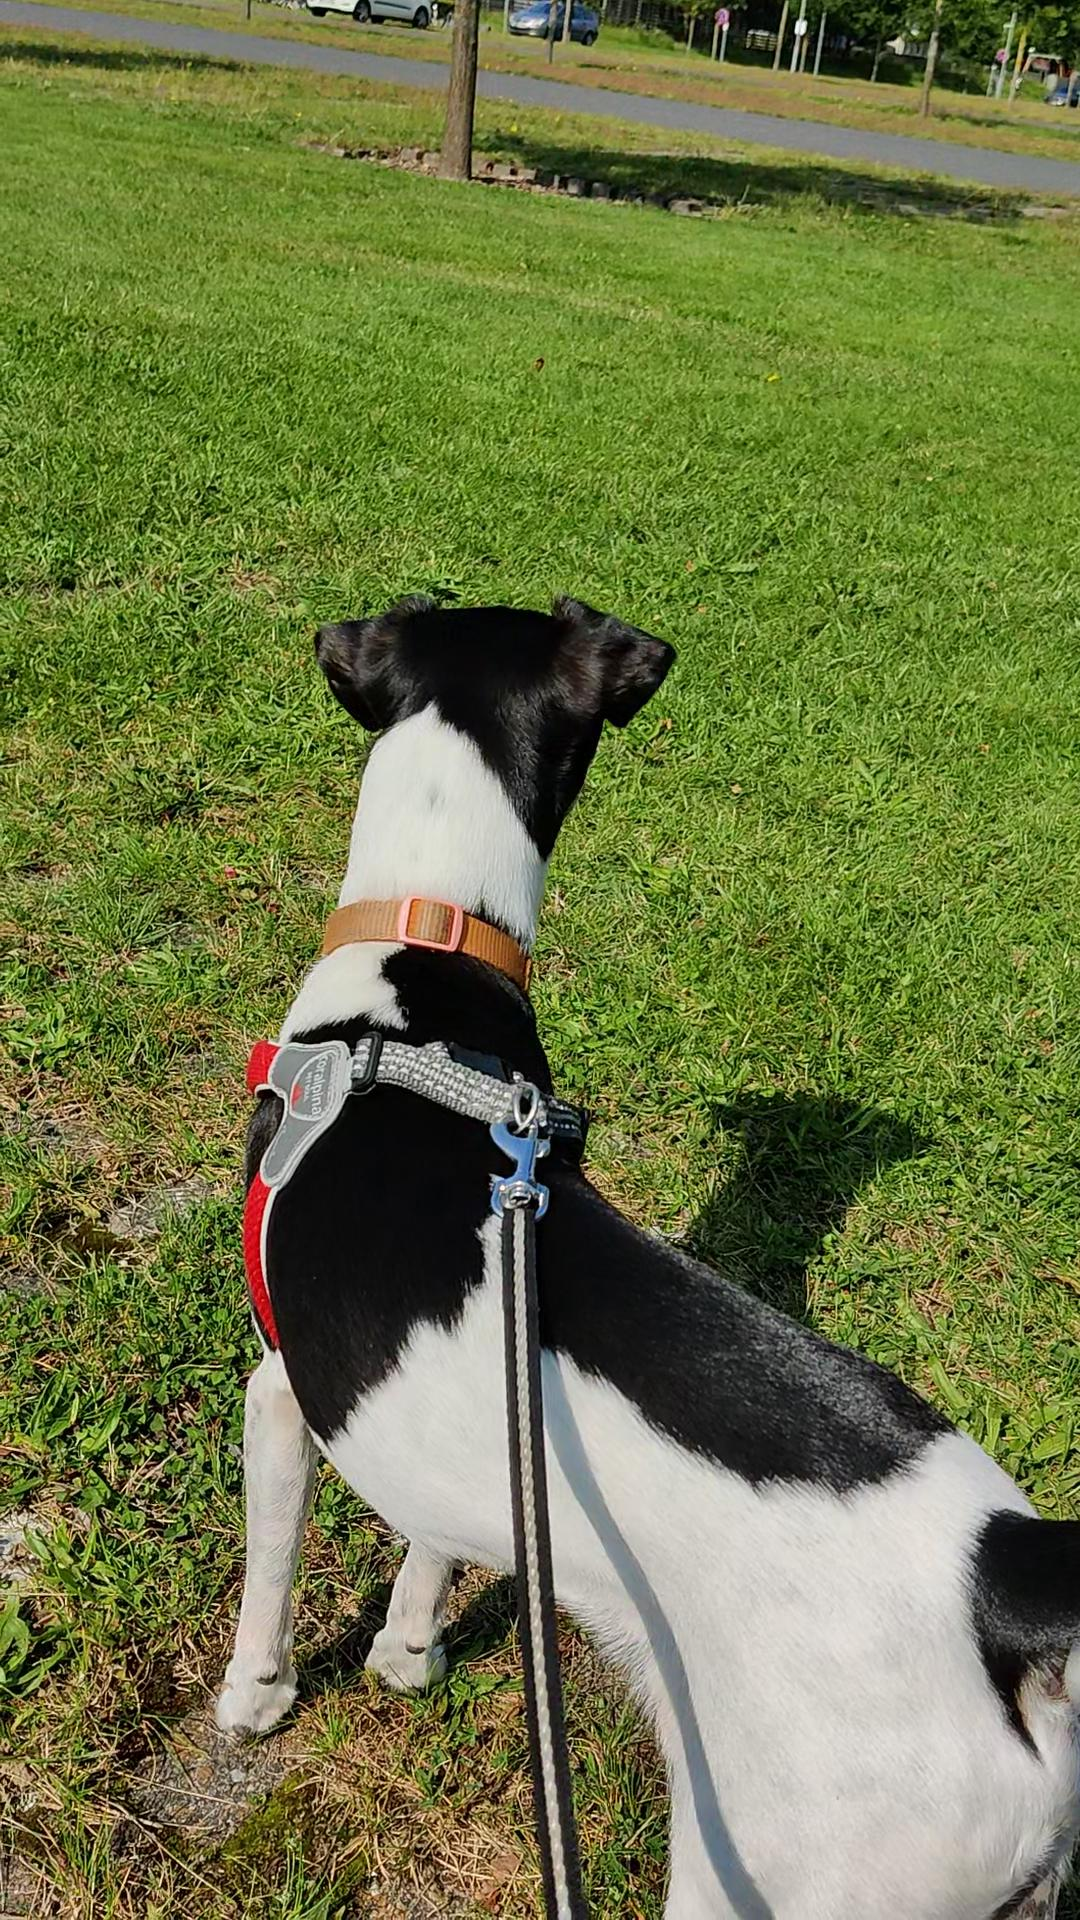Dog: (156, 542, 1079, 1919)
